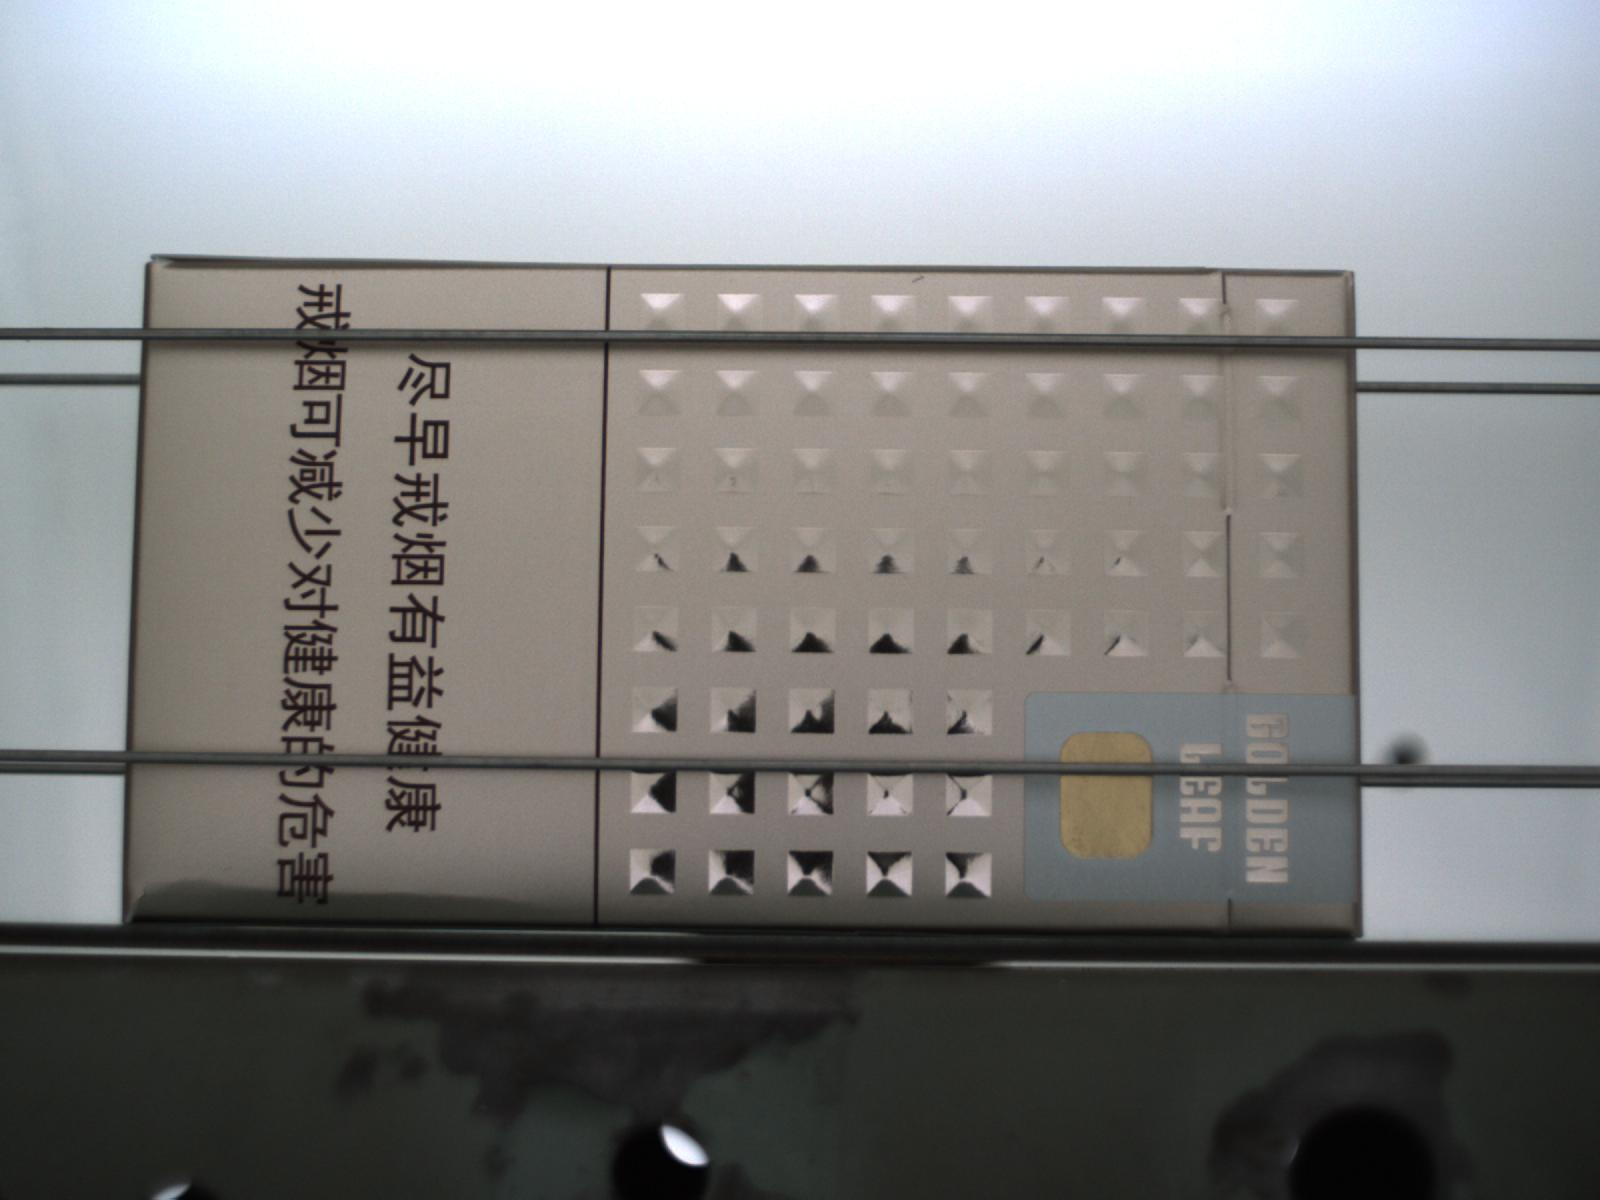boxDamage_slight: (118, 879, 610, 929)
crease_corner_heavy: (117, 880, 160, 929)
dirtySpot: (913, 272, 925, 284)
